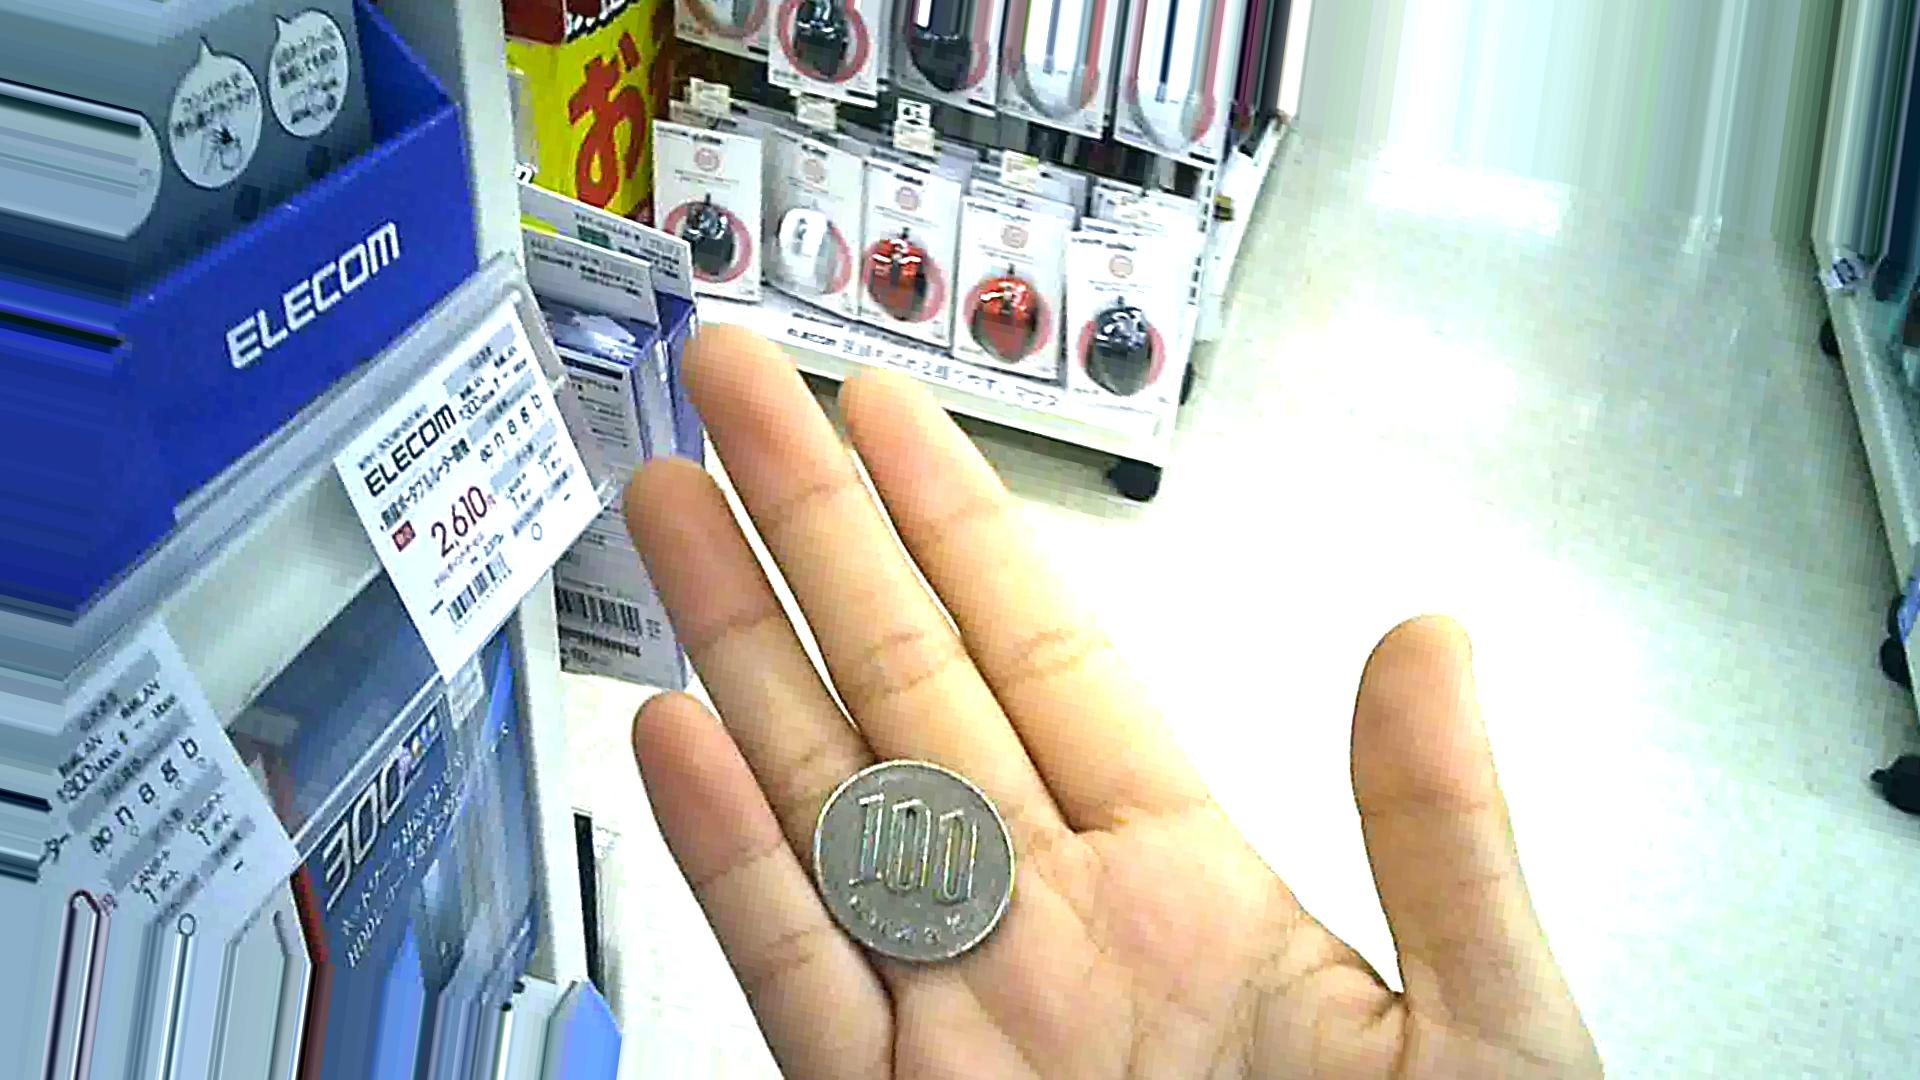100 Yen: (800, 750, 1013, 971)
